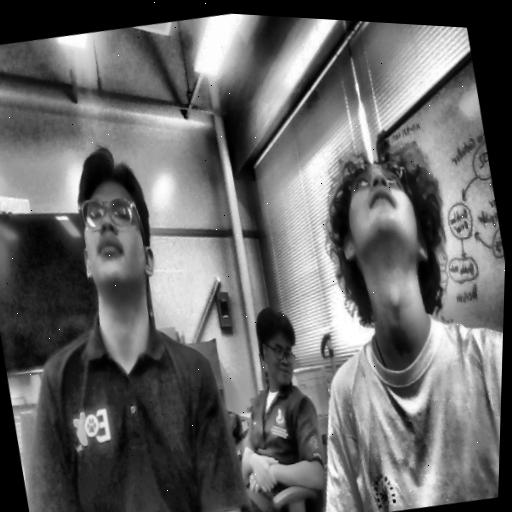Daifuku: (307, 136, 465, 348)
Not Daifuku: (60, 141, 175, 326), (248, 308, 308, 394)
